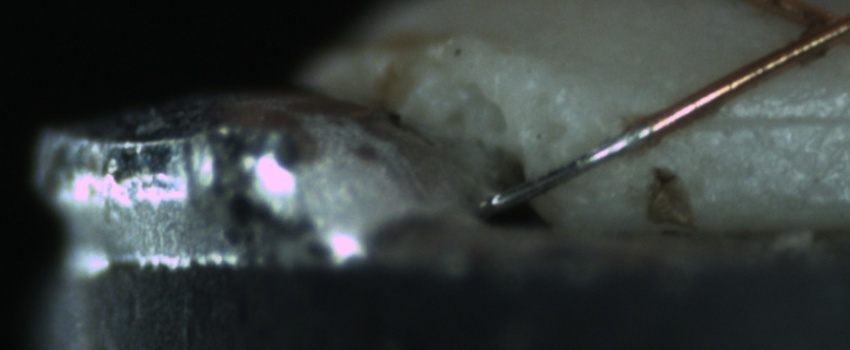CL: (774, 0, 849, 62)
DL: (709, 89, 849, 152)
TS: (493, 123, 656, 209)
TTCW: (490, 91, 715, 214)
